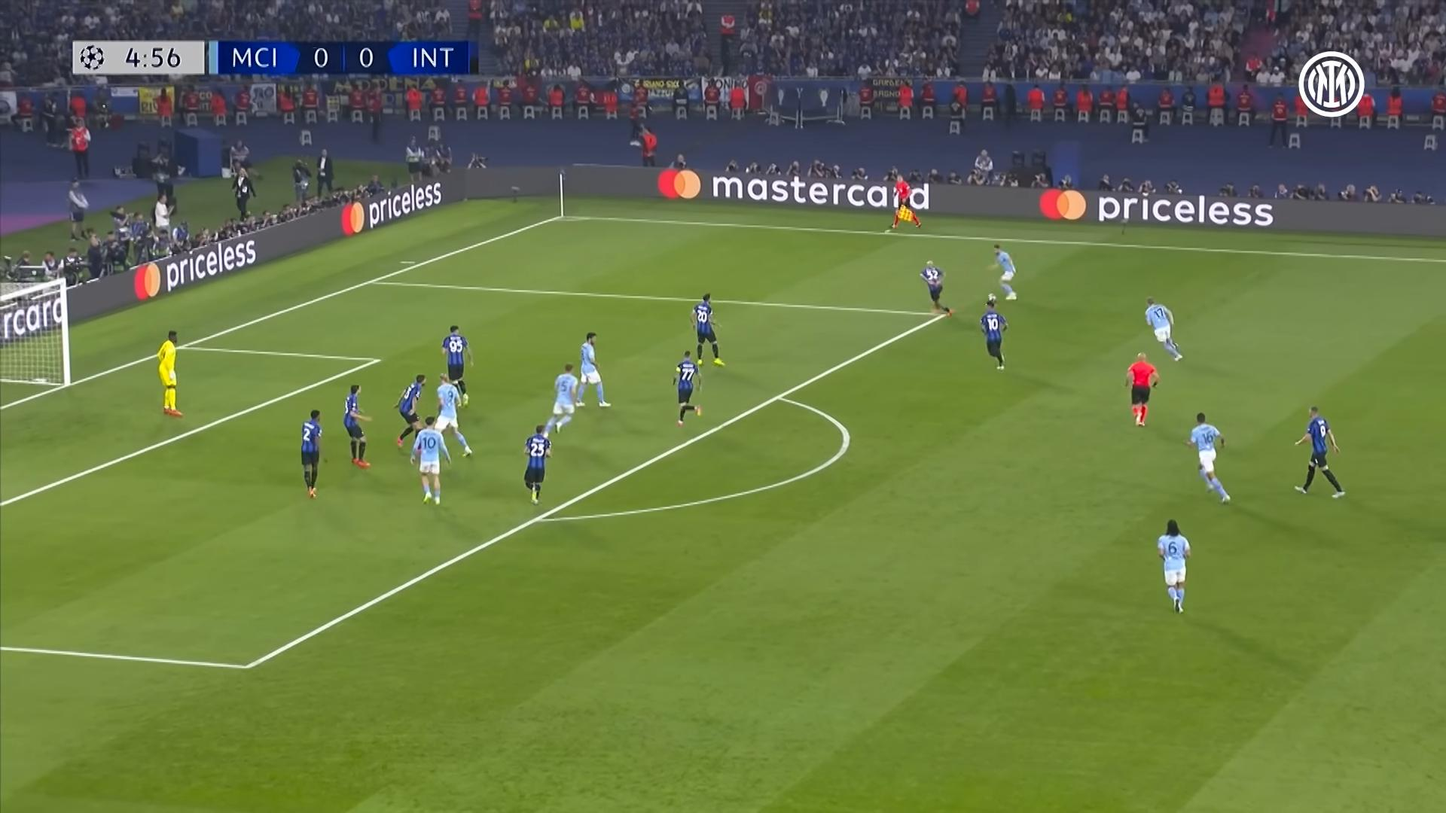Goalkeeper: (158, 330, 181, 418)
Player: (1296, 406, 1344, 498), (1186, 412, 1231, 505), (410, 418, 452, 505), (1158, 519, 1192, 613), (435, 373, 472, 456), (689, 294, 726, 367), (342, 384, 373, 469), (576, 333, 610, 409), (441, 325, 472, 406), (395, 373, 426, 449), (545, 364, 579, 433), (1147, 296, 1183, 360), (525, 423, 551, 501), (980, 301, 1008, 370), (921, 260, 955, 316), (675, 350, 700, 425), (302, 409, 322, 500), (994, 246, 1017, 302)
ball: (986, 294, 997, 299)
referee: (1127, 353, 1161, 426), (887, 175, 921, 230)
